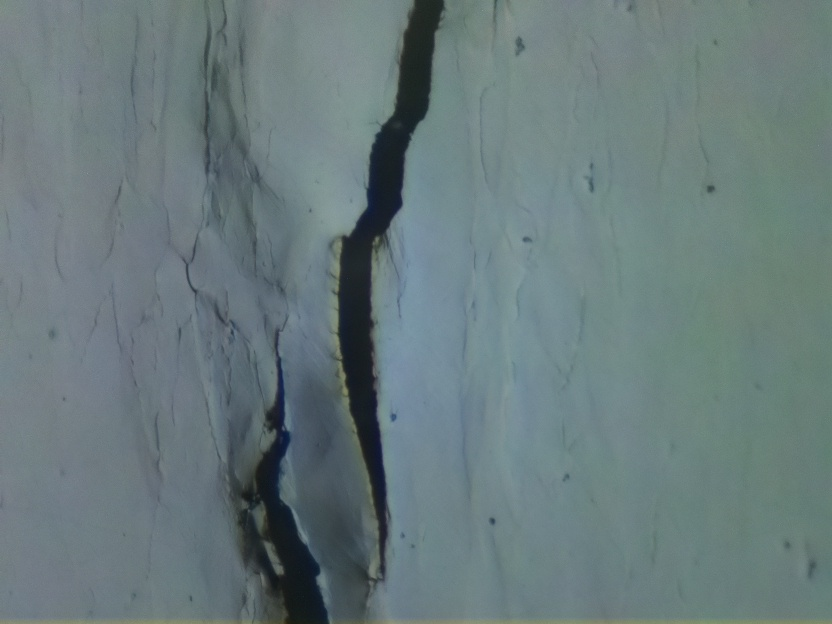crack: (337, 0, 452, 576), (244, 321, 332, 624)
